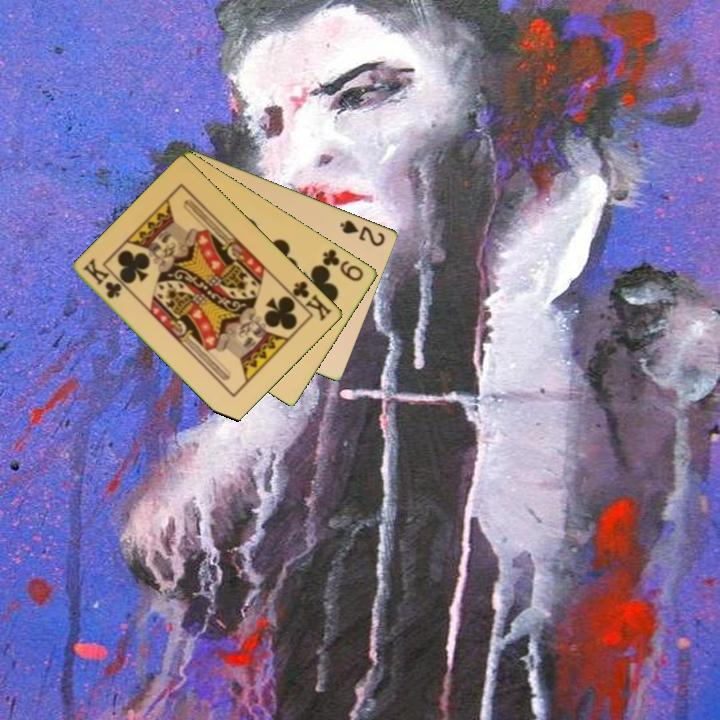2s: (337, 216, 388, 249)
9c: (319, 245, 367, 284)
Kc: (283, 278, 335, 324), (80, 255, 125, 302)
